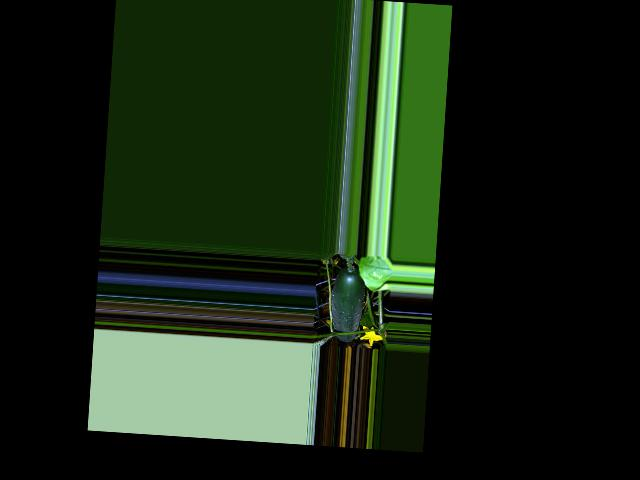cucumber: (328, 264, 366, 342)
